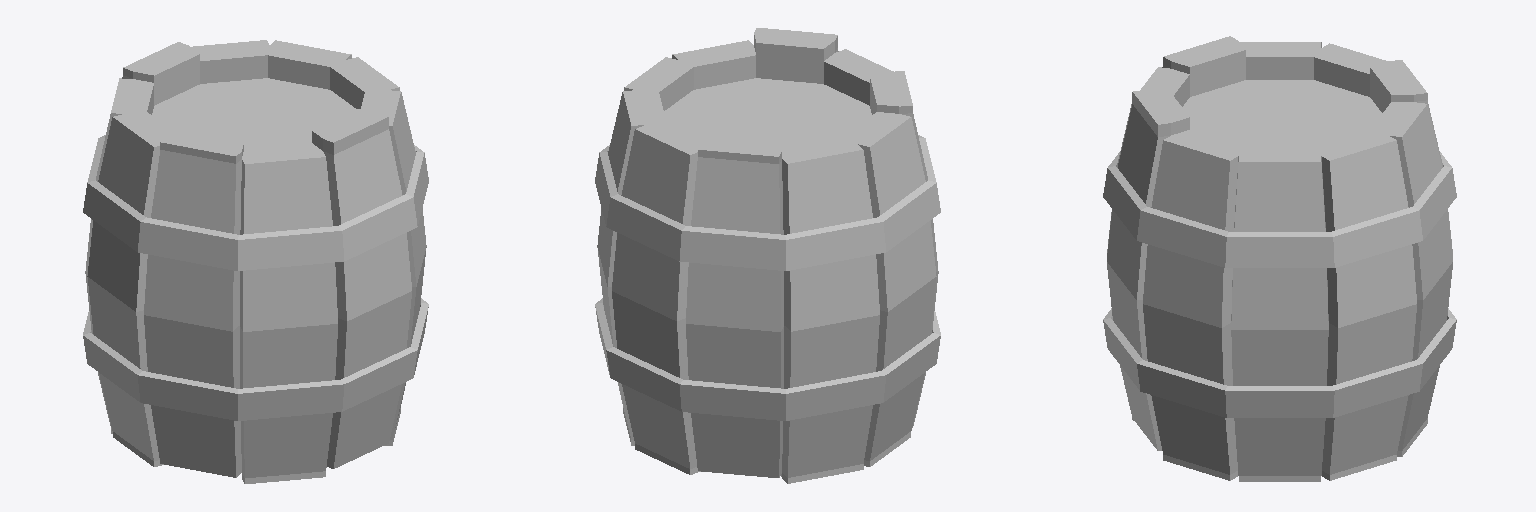
The model's file is Tonneau.obj.
3 renders of one model, left to right at view 1: azimuth 30°, elevation 25°; view 2: azimuth 150°, elevation 25°; view 3: azimuth 270°, elevation 25°, orthographic.
Visible parts, largest first — view 1: Tonneau; view 2: Tonneau; view 3: Tonneau.
Part boxes in pixels (x1,y1,x2,y2): Tonneau: (83, 40, 428, 483); Tonneau: (595, 28, 940, 483); Tonneau: (1103, 36, 1456, 481).
Bounding box in the file's own units: 102 × 112 × 108.